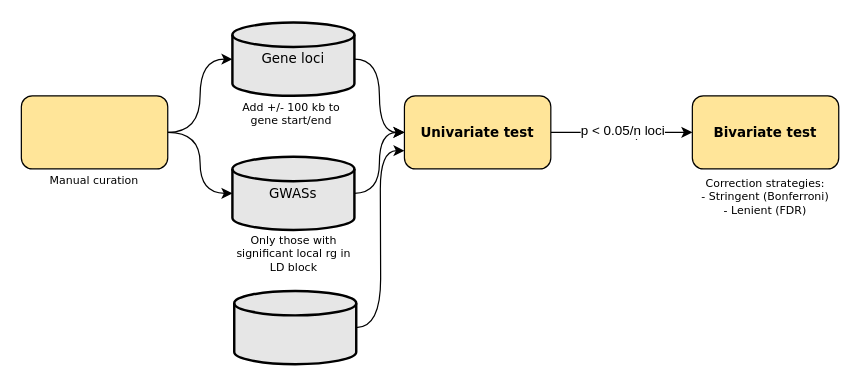
Some shapes in this 860 by 386 pixel diagram are drawn without their labels. The box of each missing label's shape, as (x1, y1, x2, y2) in pixels:
eQTLs: (232, 289, 357, 365)
Identify LD blocks of interest: (20, 95, 168, 169)
